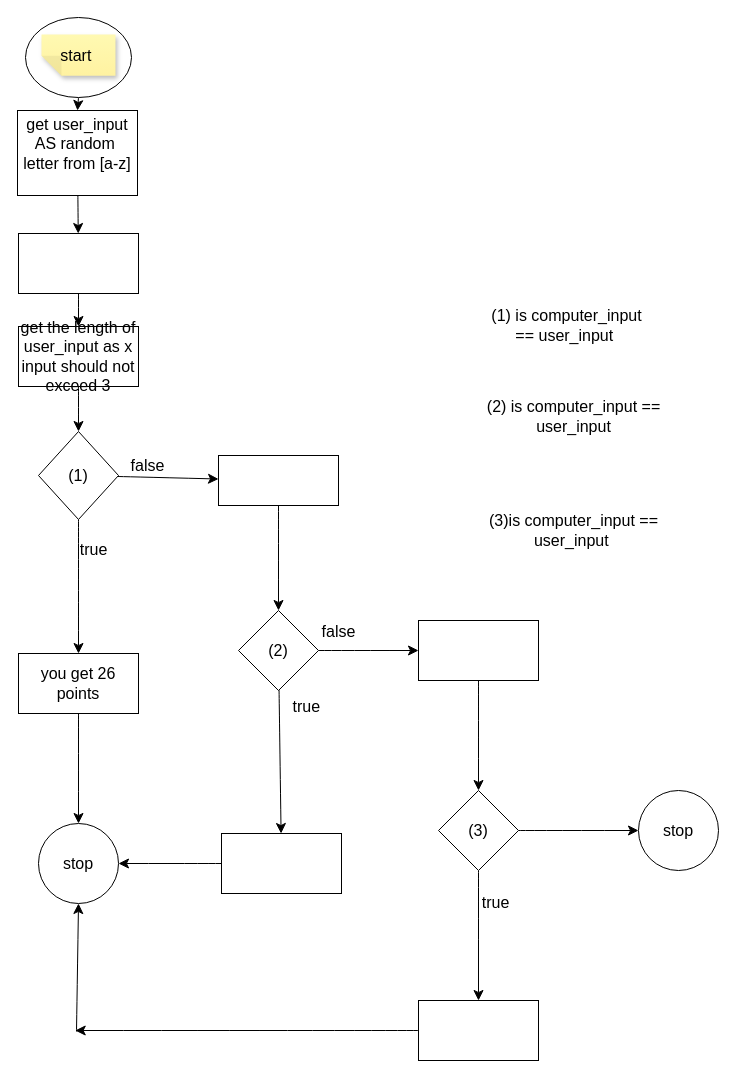
Some shapes in this 736 by 1078 pixel diagram are drawn without their labels. The shapes that lost their labels are listed below. From the top down, each one's centre as x and y in pixels, then its label:
At (x=78, y=263): "get computer_choice from alphabet".
At (x=278, y=480): "x = x+1".
At (x=478, y=650): "x = x + 1".
At (x=281, y=863): "you get 13 points".
At (x=478, y=1030): "you get 7 points".
